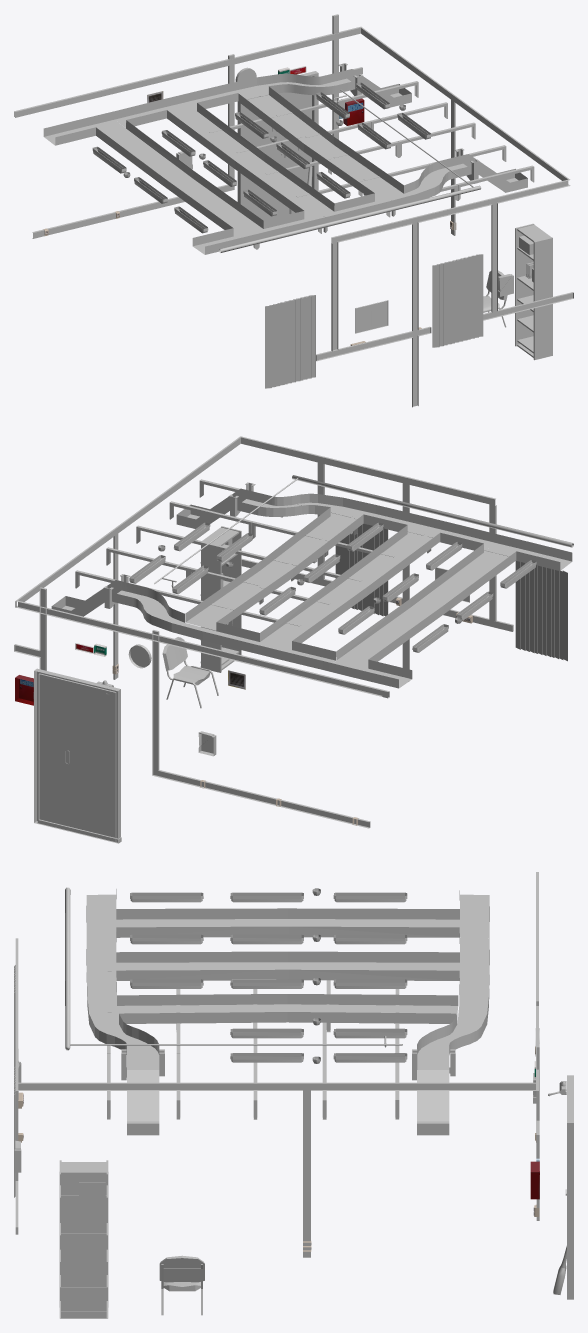
Rendered from releynaya.fbx.
The picture shows the model from 3 angles, top to bottom: view 1: azimuth 30°, elevation 25°; view 2: azimuth 150°, elevation 25°; view 3: azimuth 270°, elevation 25°; orthographic projection. The views are drawn at different scales.
Parts seen in each view (by area): view 1: all_stuff, wires_top_Mesh, Lamp, set1_diff_mod2, rele_door, stand_gold_paper, papka_stena; view 2: wires_top_Mesh, all_stuff, rele_door, Lamp, set1_diff_mod2, Red_box_corner; view 3: wires_top_Mesh, all_stuff, Lamp, set1_diff_mod2.
Part boxes in pixels (x1=…): all_stuff: x1=14, y1=14, x2=573, y2=407; wires_top_Mesh: x1=43, y1=69, x2=527, y2=254; Lamp: x1=92, y1=82, x2=431, y2=233; set1_diff_mod2: x1=209, y1=63, x2=534, y2=249; rele_door: x1=242, y1=92, x2=311, y2=220; stand_gold_paper: x1=355, y1=300, x2=388, y2=333; papka_stena: x1=176, y1=151, x2=513, y2=296; wires_top_Mesh: x1=51, y1=488, x2=572, y2=688; all_stuff: x1=14, y1=436, x2=573, y2=843; rele_door: x1=37, y1=672, x2=117, y2=842; Lamp: x1=129, y1=522, x2=536, y2=652; set1_diff_mod2: x1=75, y1=479, x2=525, y2=626; Red_box_corner: x1=15, y1=675, x2=33, y2=705; wires_top_Mesh: x1=86, y1=889, x2=489, y2=1135; all_stuff: x1=14, y1=872, x2=573, y2=1318; Lamp: x1=130, y1=892, x2=407, y2=1062; set1_diff_mod2: x1=107, y1=912, x2=455, y2=1119.
Bounding box in the file's own units: 5.4 × 3.05 × 5.98.
